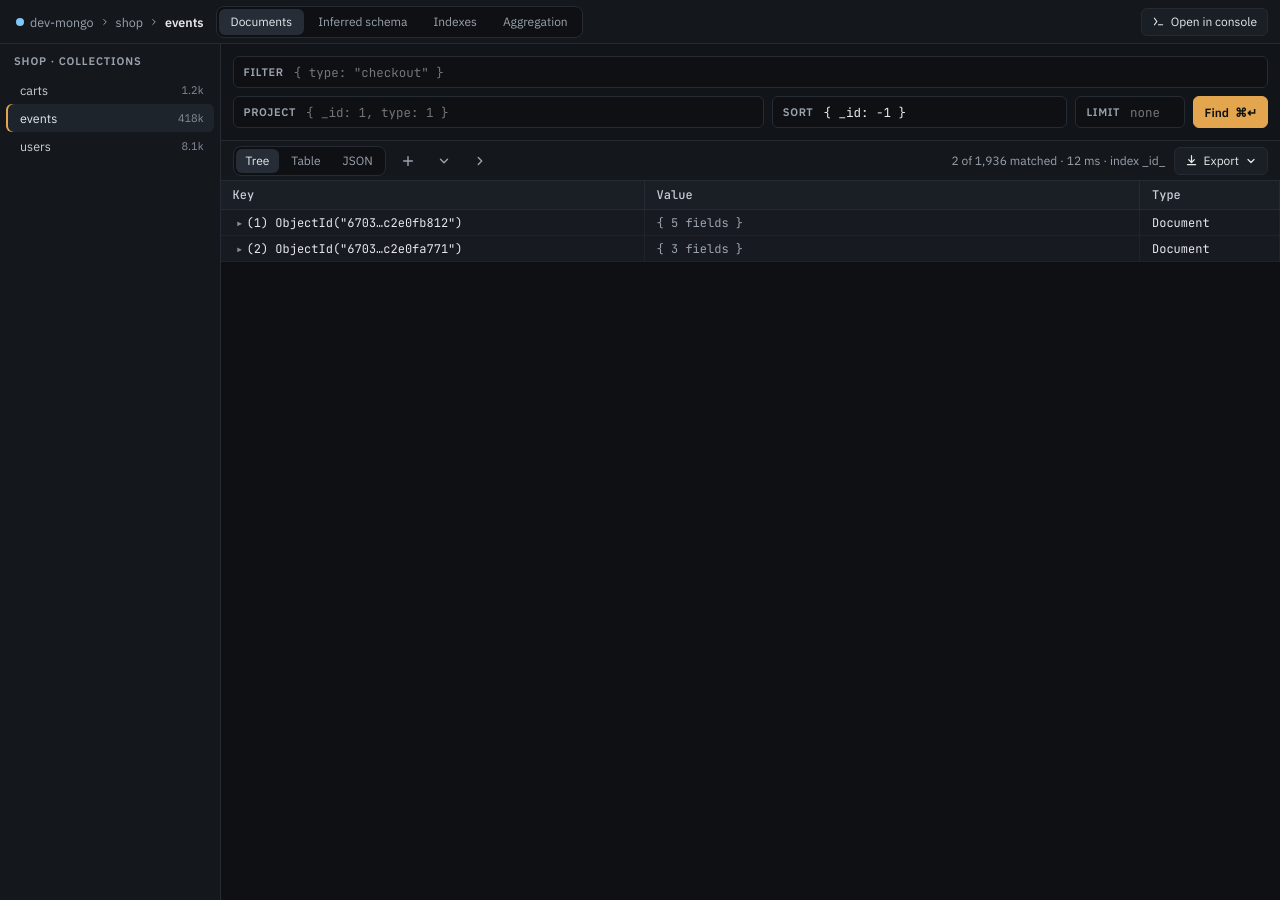
Test case: editing › rejects a value that doesn't fit its type
Click the button named "Expand all". click: (444, 160)
box: [430, 146, 458, 174]
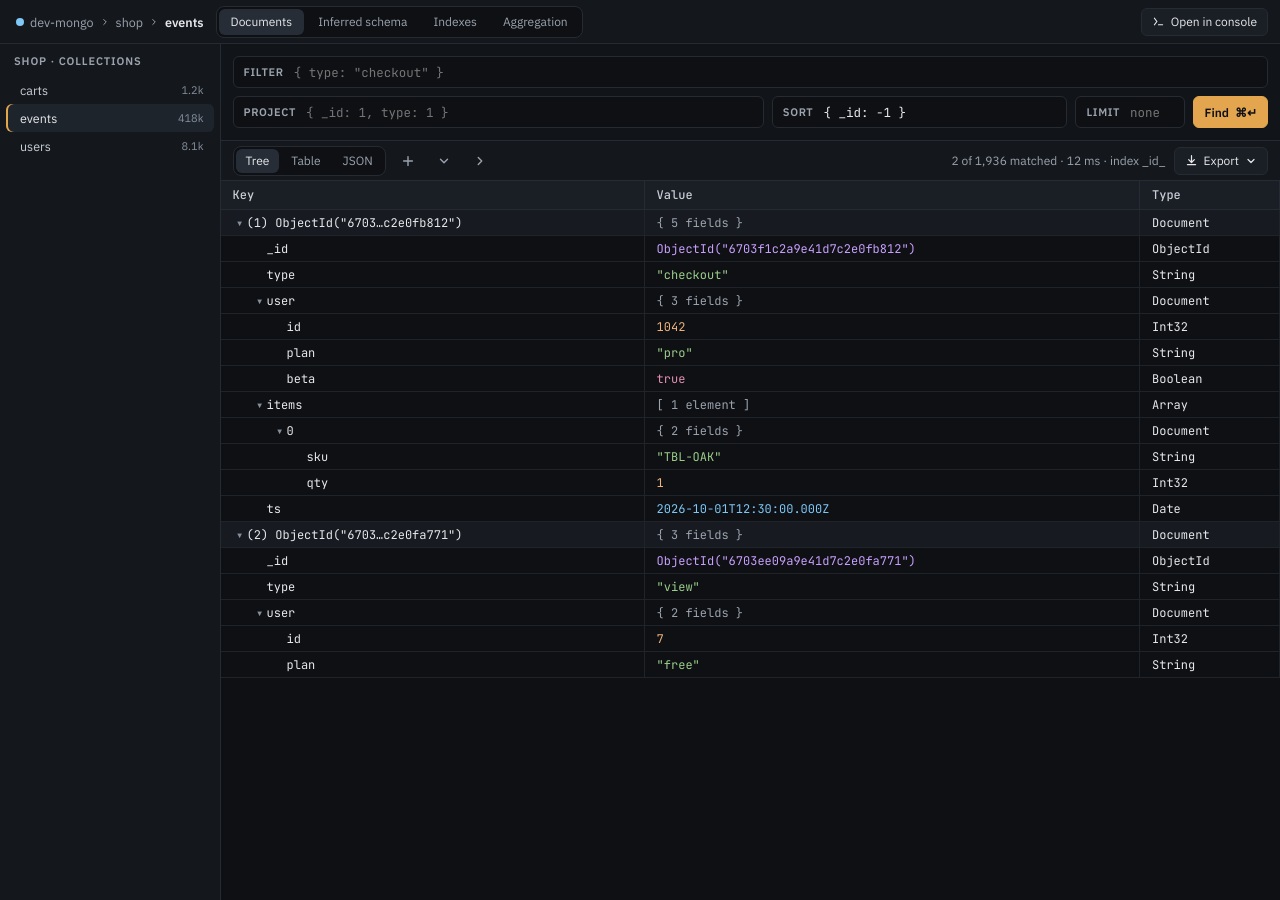
Double-click the text "1042" at (750, 326), box [220, 314, 1279, 340]
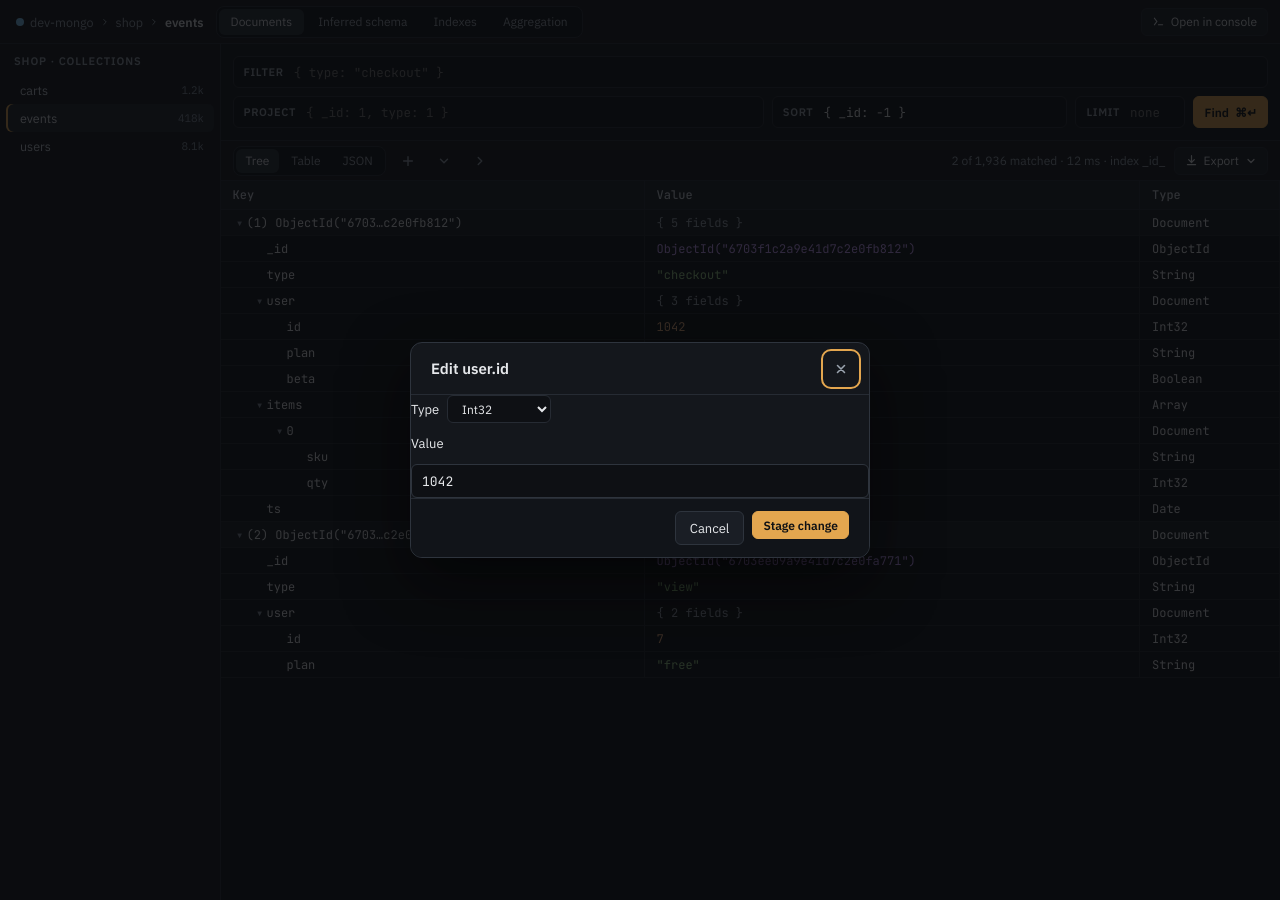
Replace the text in the field labelled "Value" with "4.5". click: (640, 481)
box: [411, 464, 869, 498]
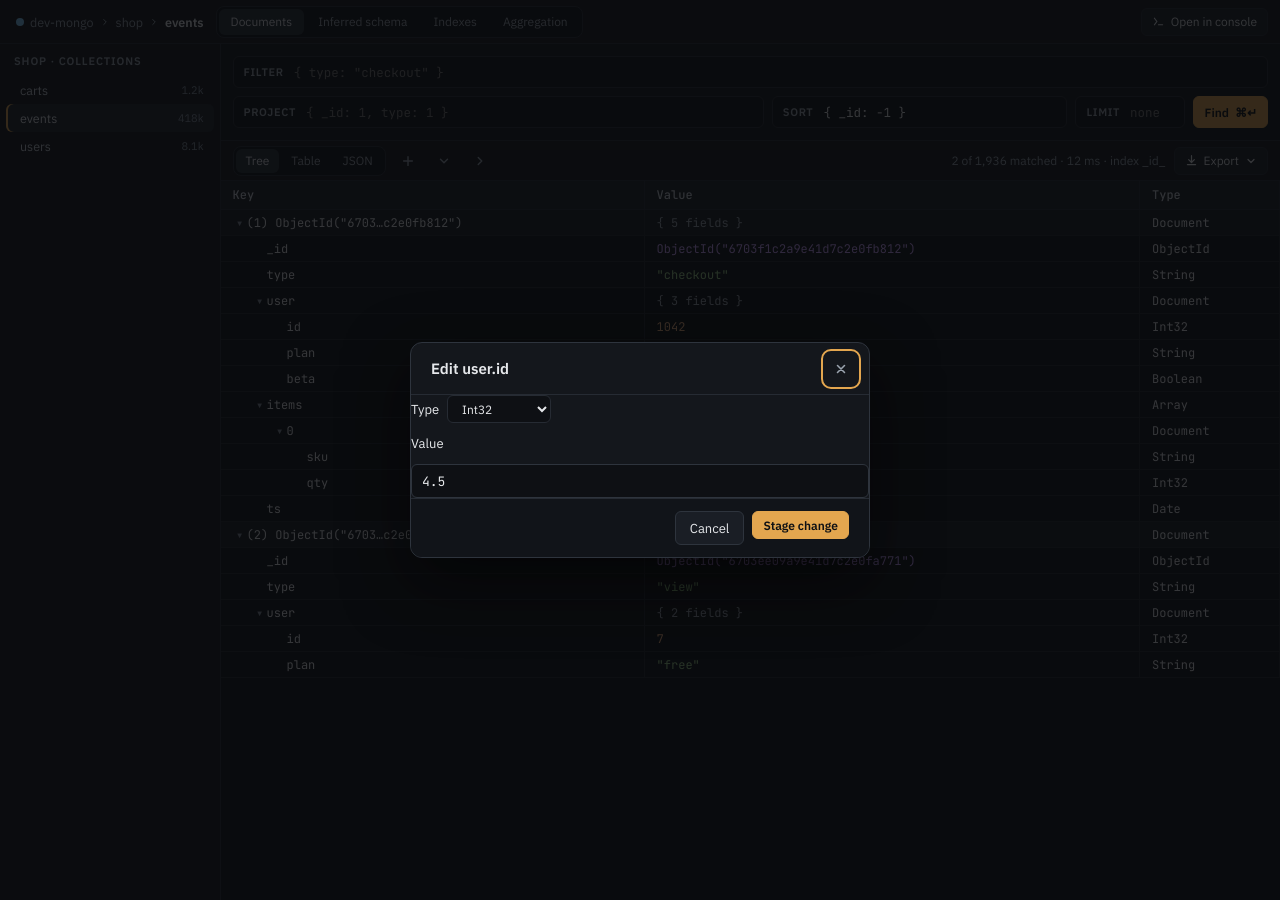
Click the button "Stage change". click: (801, 525)
box: [752, 511, 849, 539]
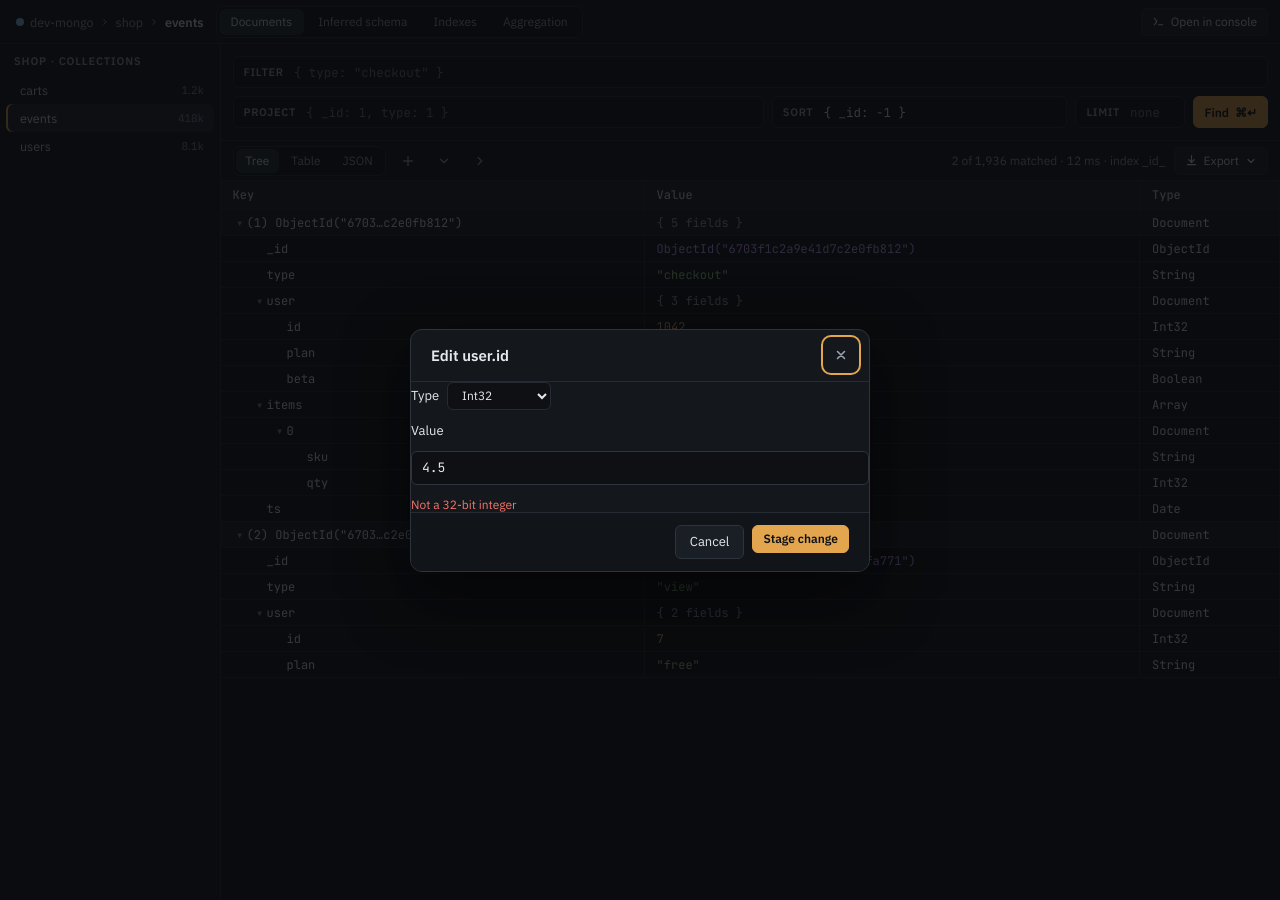
Expected: the message reads "Not a 32-bit integer", [411, 496, 516, 512]
